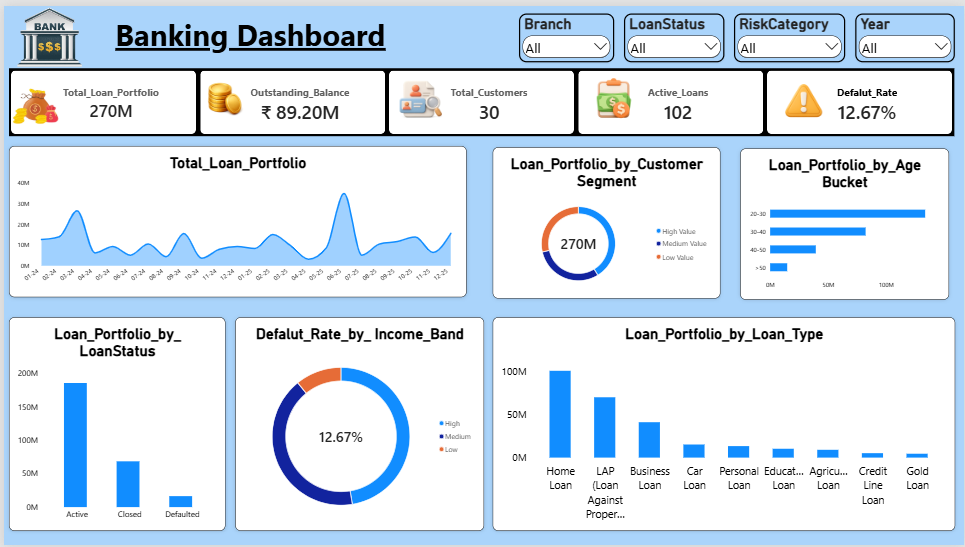

Layout of this report page (visuals, bound fields, positions):
{"tool":"powerbi","page":{"name":"Dashboard","canvas":[1920,1080],"ordinal":0},"visuals":[{"type":"cardVisual","fields":{"Data":["Measures (2).Total_Loan_Portfolio","Measures (2).Outstanding_Balance","Measures (2).Customer","Measures (2).Active_Loans","Measures (2).Defalut_Rate"]},"box":[10,125,1892.5,135],"z":0},{"type":"textbox","box":[141.2,18.1,706,90.8],"z":1000},{"type":"areaChart","title":"Total_Loan_Portfolio","fields":{"Y":["Measures (2).Total_Loan_Portfolio"],"Category":["Dates_Table.Month_year"]},"box":[10,280,915,302.5],"z":2000},{"type":"clusteredColumnChart","title":"Loan_Portfolio_by_Loan_Type","fields":{"Y":["Measures (2).Total_Loan_Portfolio"],"Category":["PROD.LoanType"]},"box":[977.5,622.5,925,427.5],"z":3000},{"type":"donutChart","title":"Loan_Portfolio_by_Customer  Segment","fields":{"Category":["CUST.CustomerSegment"],"Y":["Measures (2).Total_Loan_Portfolio"]},"box":[977.5,282.5,455,302.5],"z":4000},{"type":"donutChart","title":"Defalut_Rate_by_ Income_Band","fields":{"Category":["CUST.IncomeBand"],"Y":["Measures (2).Defalut_Rate"]},"box":[462.5,622.5,497.5,427.5],"z":5000},{"type":"clusteredBarChart","title":"Loan_Portfolio_by_Age  Bucket","fields":{"Category":["CUST.Age_Bucket"],"Y":["Measures (2).Total_Loan_Portfolio"]},"box":[1472.5,285,417.5,302.5],"z":6000},{"type":"clusteredColumnChart","title":"Loan_Portfolio_by_ LoanStatus","fields":{"Category":["Loan_Fact.LoanStatus"],"Y":["Measures (2).Total_Loan_Portfolio"]},"box":[10,622.5,432.5,427.5],"z":7000},{"type":"slicer","fields":{"Values":["Dates_Table.Year"]},"box":[1702.9,14.5,199.1,97.7],"z":8000},{"type":"slicer","fields":{"Values":["PROD.RiskCategory"]},"box":[1460.4,14.3,222.6,97.7],"z":9000},{"type":"slicer","fields":{"Values":["Dates_Table.Year","Loan_Fact.LoanStatus"]},"box":[1239.6,14.3,200.9,97.7],"z":10000},{"type":"slicer","fields":{"Values":["Dates_Table.Year","Loan_Fact.Branch"]},"box":[1029.7,14.3,190,97.7],"z":11000},{"type":"image","box":[0,0,182.8,124.9],"z":12000},{"type":"image","box":[10,120,108.6,146.6],"z":13000},{"type":"image","box":[778.2,114,108.6,146.6],"z":14000},{"type":"image","box":[385.5,114,108.6,146.6],"z":15000},{"type":"image","box":[1165.4,115.8,108.6,146.6],"z":16000},{"type":"image","box":[1545.5,121.2,108.6,146.6],"z":17000}]}

Visuals, with their boxes in screenshot pixels (x1, y1, x2, y2), scaled from the page's 1920x1080 canvas onto the 965x547 screenshot:
cardVisual - Measures (2).Total_Loan_Portfolio x Measures (2).Outstanding_Balance: select_region(5, 63, 956, 132)
textbox: select_region(71, 9, 426, 55)
"Total_Loan_Portfolio" areaChart: select_region(5, 142, 465, 295)
"Loan_Portfolio_by_Loan_Type" clusteredColumnChart: select_region(491, 315, 956, 532)
"Loan_Portfolio_by_Customer  Segment" donutChart: select_region(491, 143, 720, 296)
"Defalut_Rate_by_ Income_Band" donutChart: select_region(232, 315, 482, 532)
"Loan_Portfolio_by_Age  Bucket" clusteredBarChart: select_region(740, 144, 950, 298)
"Loan_Portfolio_by_ LoanStatus" clusteredColumnChart: select_region(5, 315, 222, 532)
slicer - Dates_Table.Year: select_region(856, 7, 956, 57)
slicer - PROD.RiskCategory: select_region(734, 7, 846, 57)
slicer - Dates_Table.Year x Loan_Fact.LoanStatus: select_region(623, 7, 724, 57)
slicer - Dates_Table.Year x Loan_Fact.Branch: select_region(518, 7, 613, 57)
image: select_region(0, 0, 92, 63)
image: select_region(5, 61, 60, 135)
image: select_region(391, 58, 446, 132)
image: select_region(194, 58, 248, 132)
image: select_region(586, 59, 640, 133)
image: select_region(777, 61, 831, 136)
